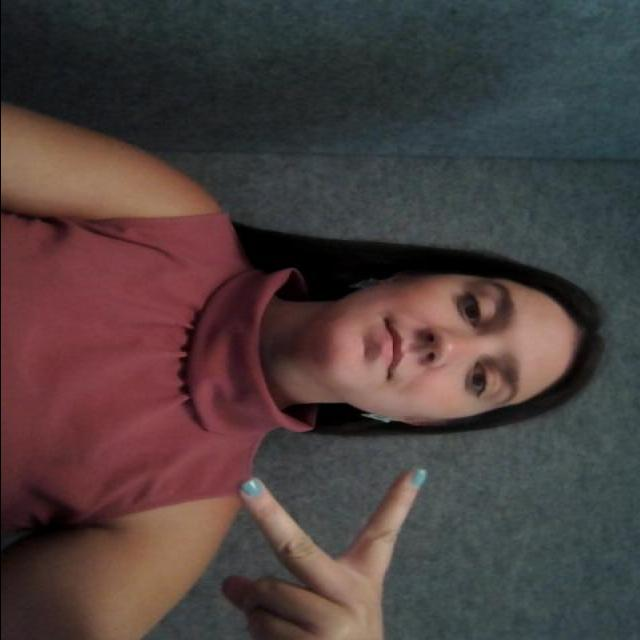Scissors: (209, 439, 462, 639)
